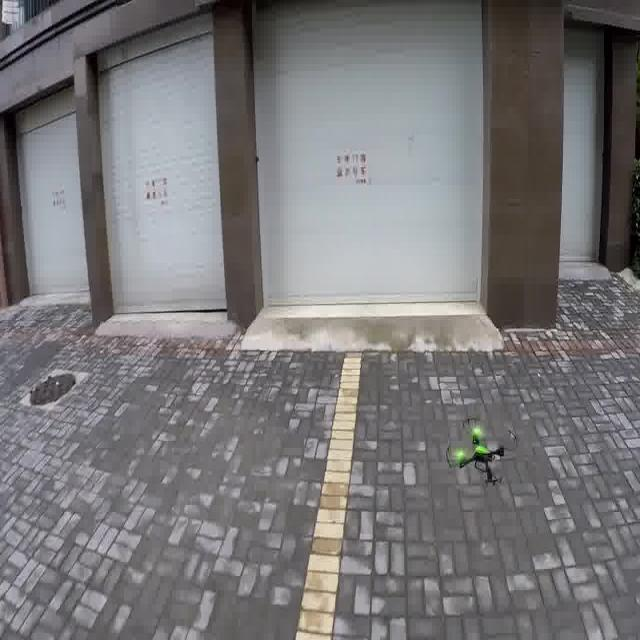drones: (440, 404, 525, 500)
